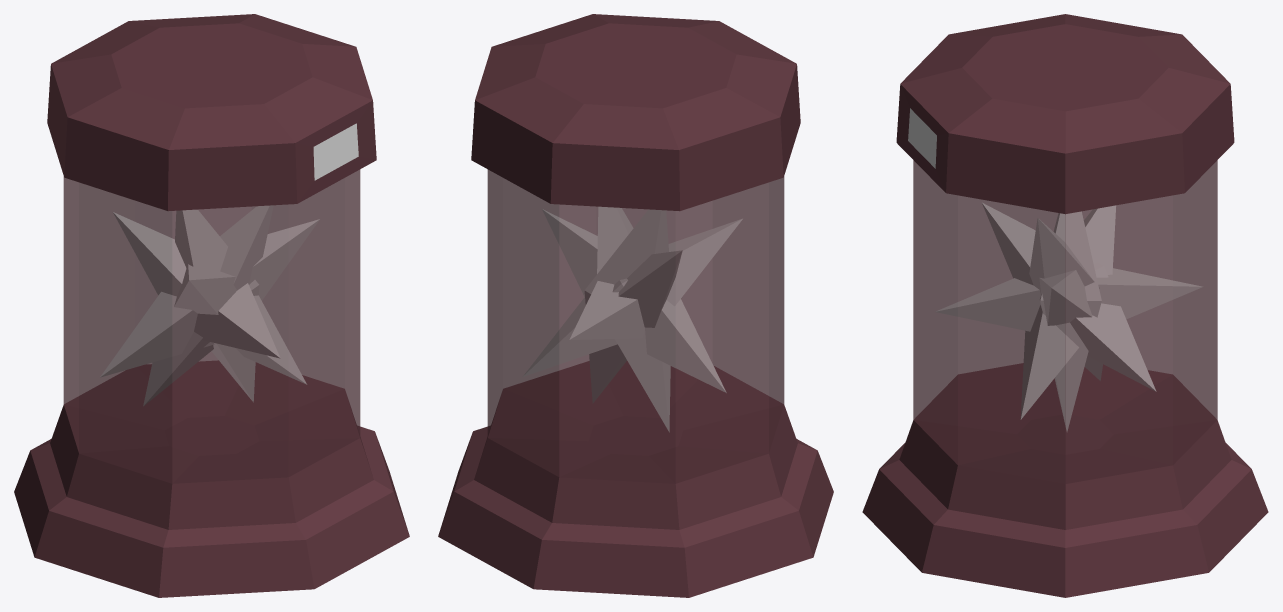
The model's file is scifi-tube-specimen-small-crystal.fbx.
3 renders of one model, left to right at view 1: azimuth 30°, elevation 25°; view 2: azimuth 150°, elevation 25°; view 3: azimuth 270°, elevation 25°, orthographic.
Visible parts, largest first — view 1: scifi-tube-specimen-small-crystal; view 2: scifi-tube-specimen-small-crystal; view 3: scifi-tube-specimen-small-crystal.
Part boxes in pixels (x1,y1,x2,y2): scifi-tube-specimen-small-crystal: (14, 14, 409, 597); scifi-tube-specimen-small-crystal: (438, 14, 833, 597); scifi-tube-specimen-small-crystal: (862, 14, 1268, 597).
Size of the model in its own units: 0.4517 by 0.5452 by 0.4517.
